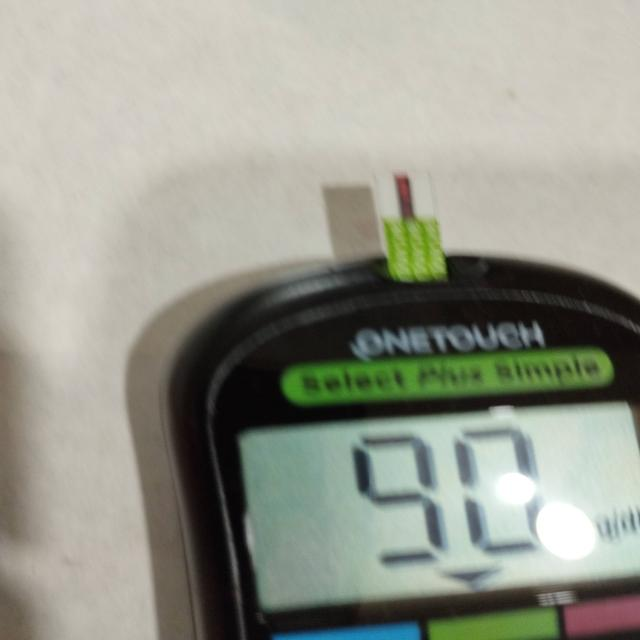gluco: (168, 206, 640, 640)
